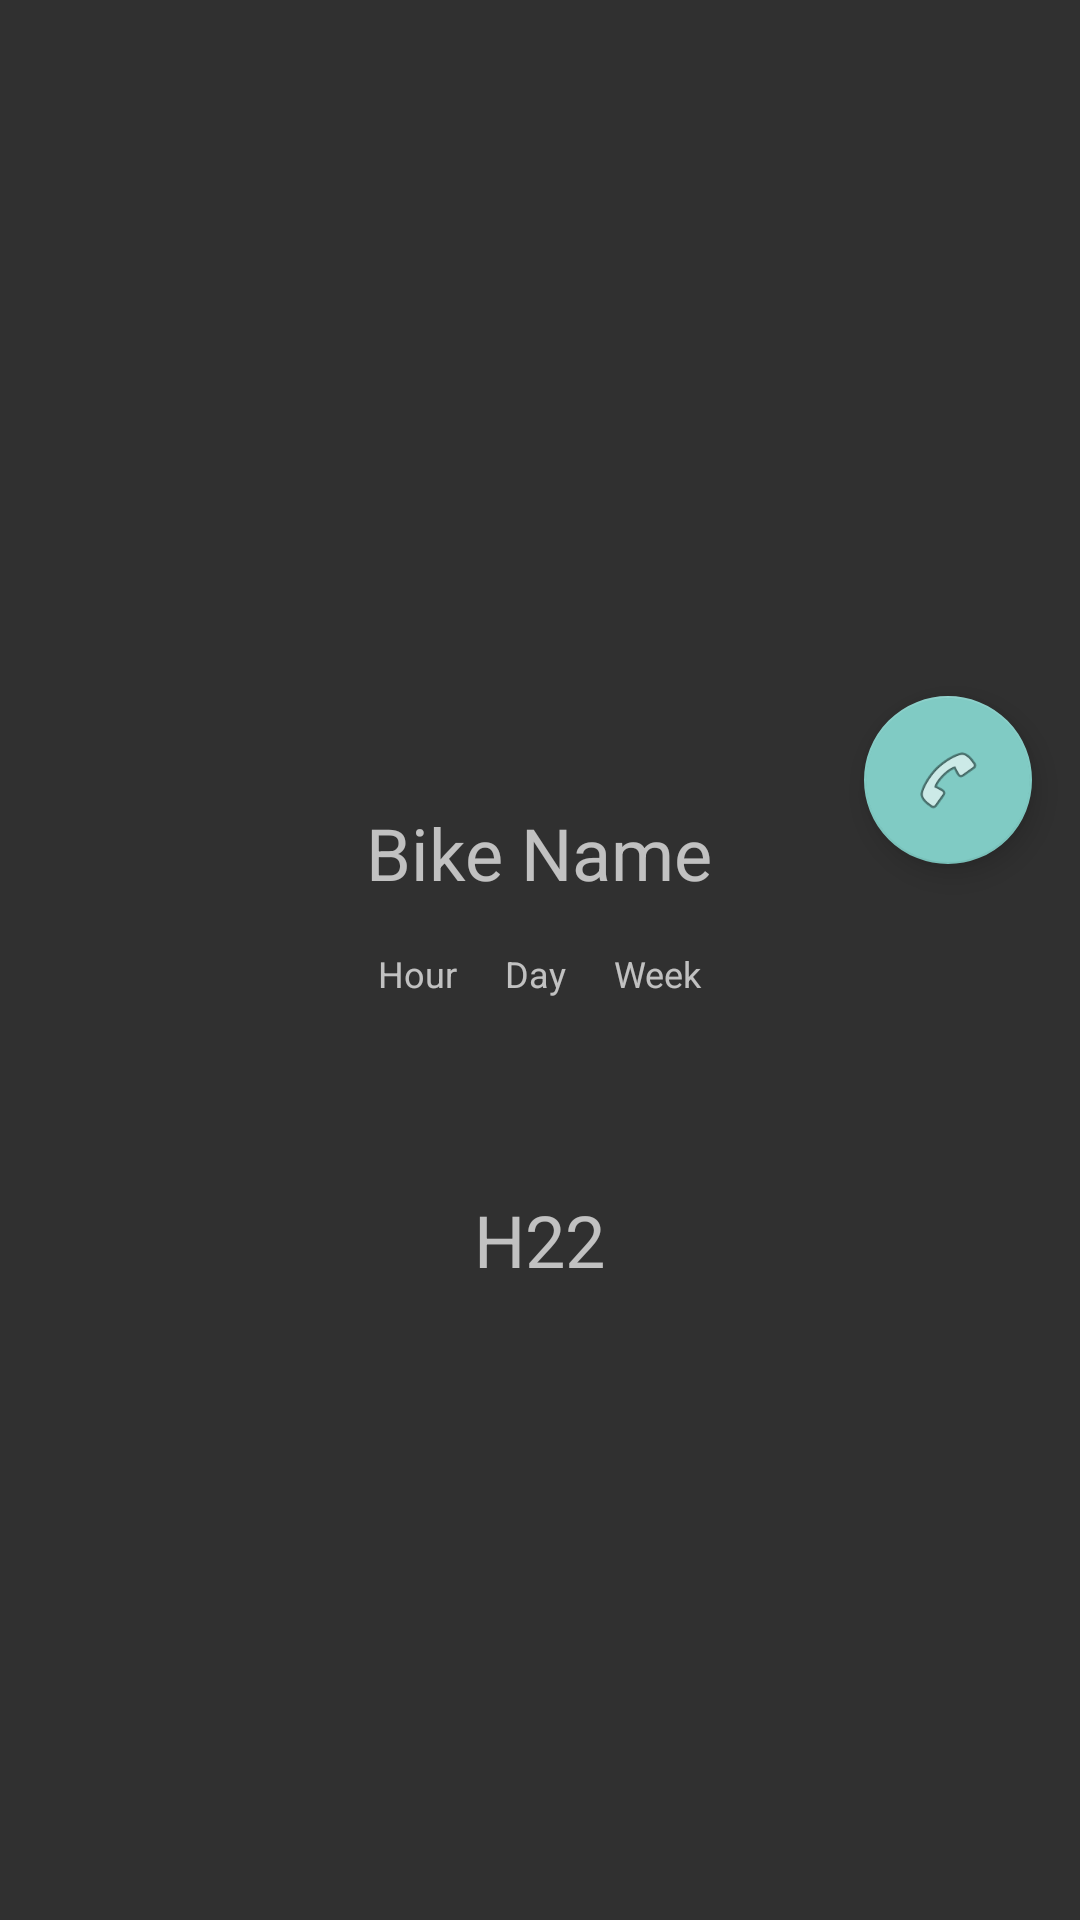

Where to tap for icons on this 1080*1920 app screen, as (x,y):
call: (948,780)
